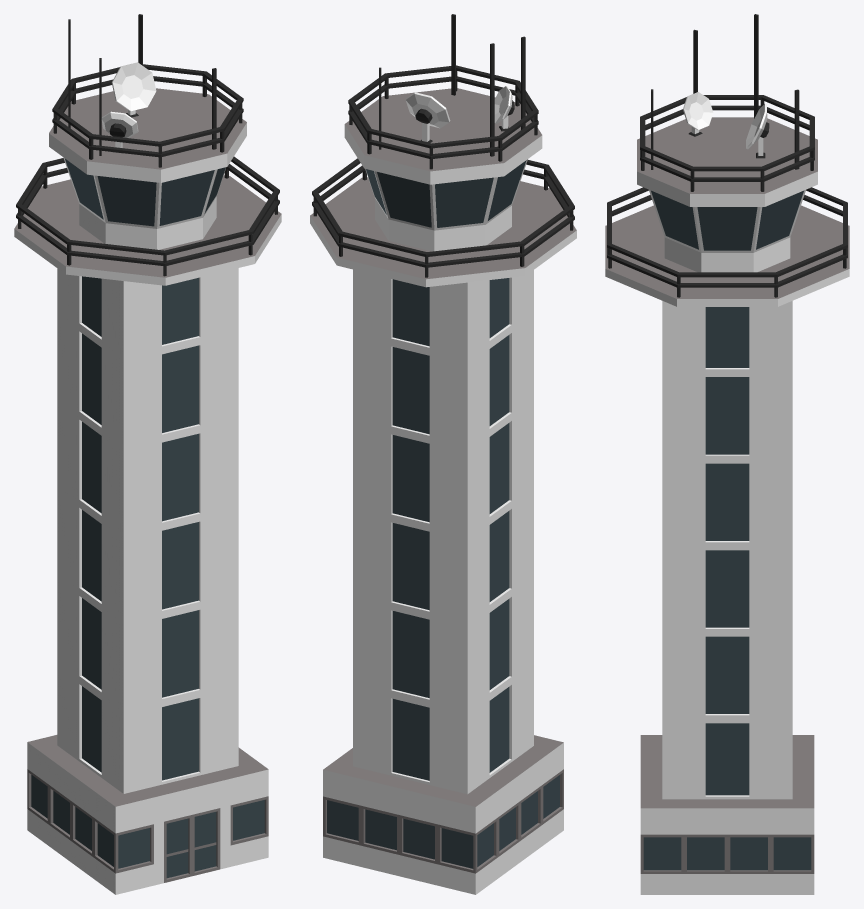
Rendered from buildings_airport-control-tower.fbx.
The picture shows the model from 3 angles, left to right: view 1: azimuth 30°, elevation 25°; view 2: azimuth 150°, elevation 25°; view 3: azimuth 270°, elevation 25°; orthographic projection.
Parts seen in each view (by area): view 1: buildings_airport_control_tower; view 2: buildings_airport_control_tower; view 3: buildings_airport_control_tower.
Part boxes in pixels (<box>): buildings_airport_control_tower: <box>14,14,281,894</box>; buildings_airport_control_tower: <box>310,14,576,894</box>; buildings_airport_control_tower: <box>605,14,849,894</box>.
Size of the model in its own units: 54.53 by 200 by 54.53.
